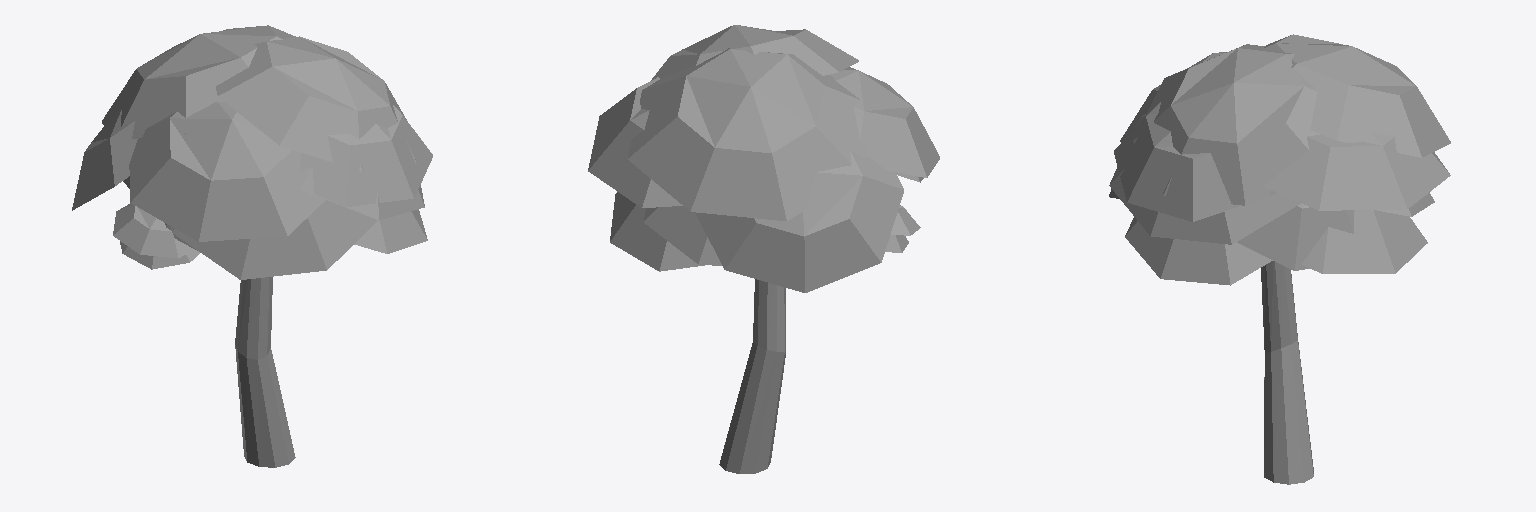
The model's file is Tree_1.obj.
The picture shows the model from 3 angles: view 1: azimuth 30°, elevation 25°; view 2: azimuth 150°, elevation 25°; view 3: azimuth 270°, elevation 25°; orthographic projection.
Visible parts, largest first — view 1: Tree_1_Cylinder.005; view 2: Tree_1_Cylinder.005; view 3: Tree_1_Cylinder.005.
Boxes of the visible parts, box(x1,y1,x2,y2) form: Tree_1_Cylinder.005: box(72, 25, 432, 467); Tree_1_Cylinder.005: box(588, 25, 939, 473); Tree_1_Cylinder.005: box(1109, 34, 1450, 484).
Bounding box in the file's own units: 2.07 × 2.77 × 2.07.